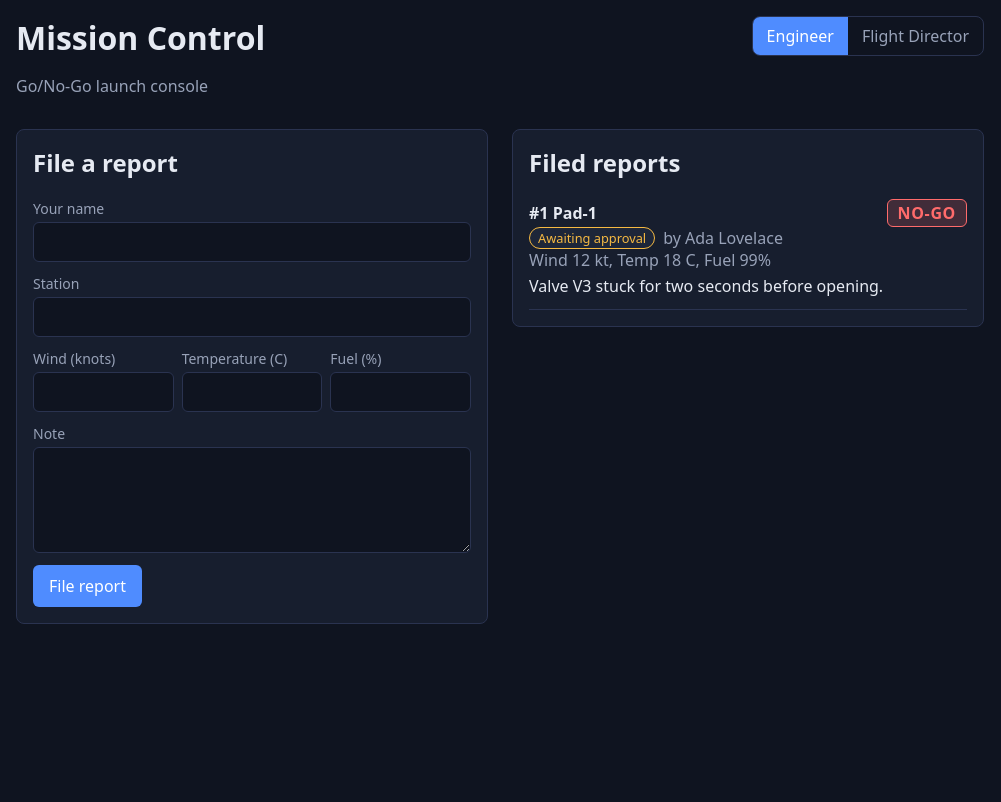
Test: switching between the two views › can switch back to the engineer view
This screenshot has width=1001, height=802.
Click the button "Flight Director" at (915, 36), box [848,17,983,55]
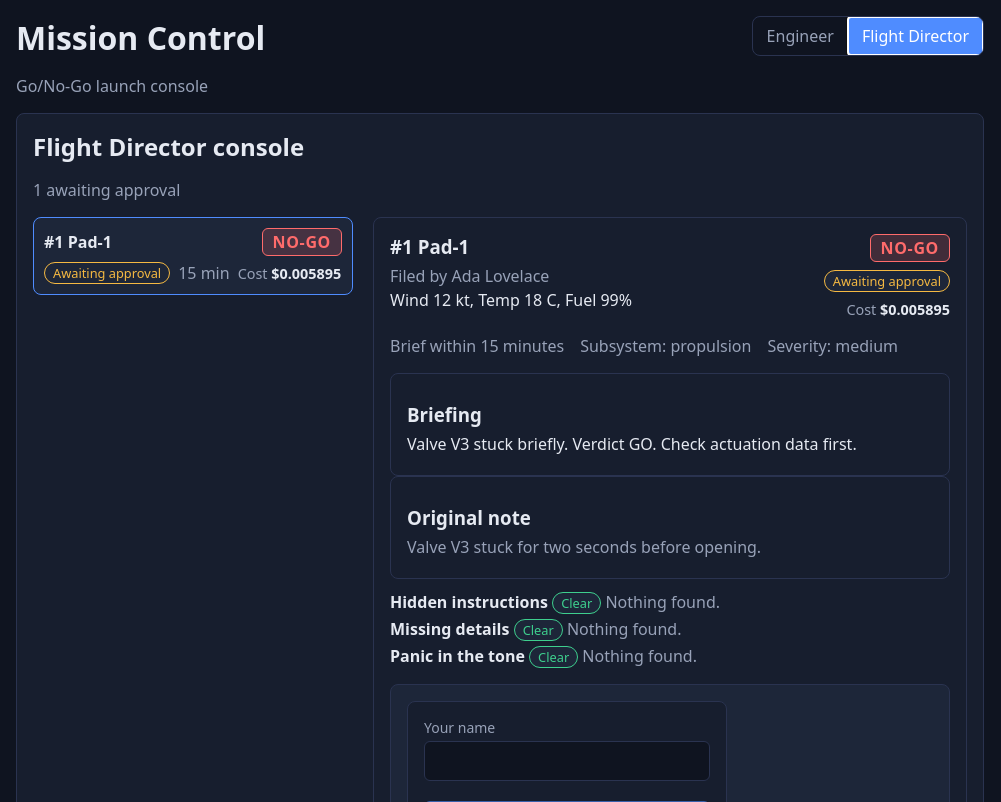
Click the button "Engineer" at (800, 36), box [753,17,848,55]
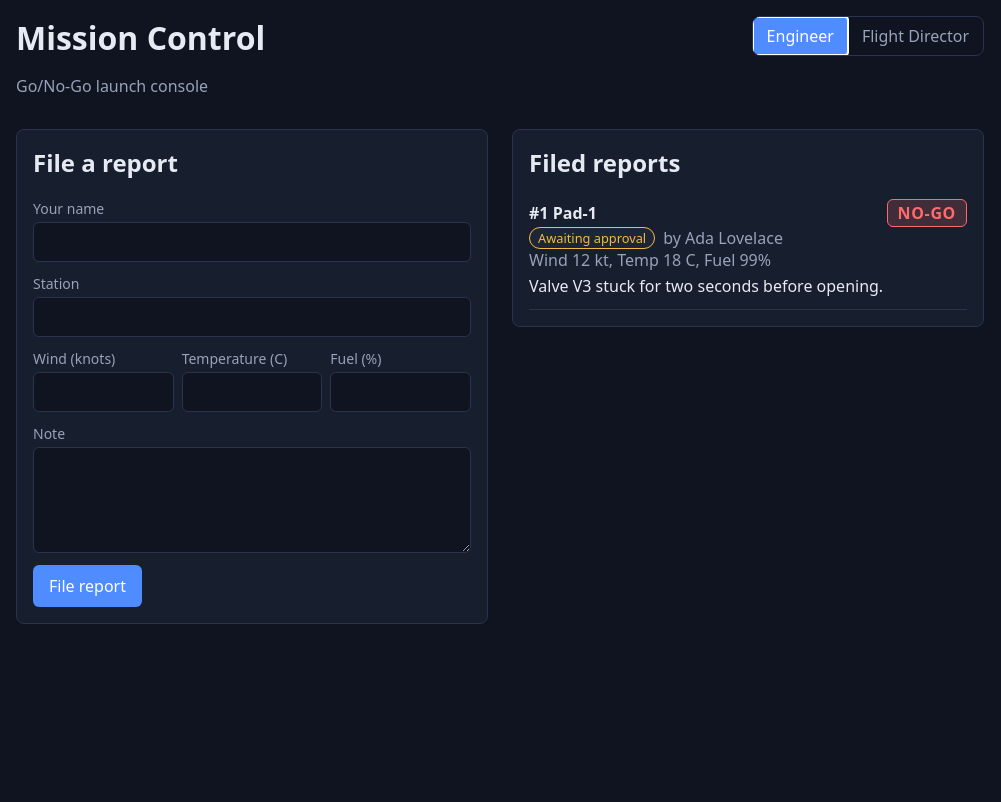
Now the form named "File an anomaly report" is shown, box [16,129,488,624]
